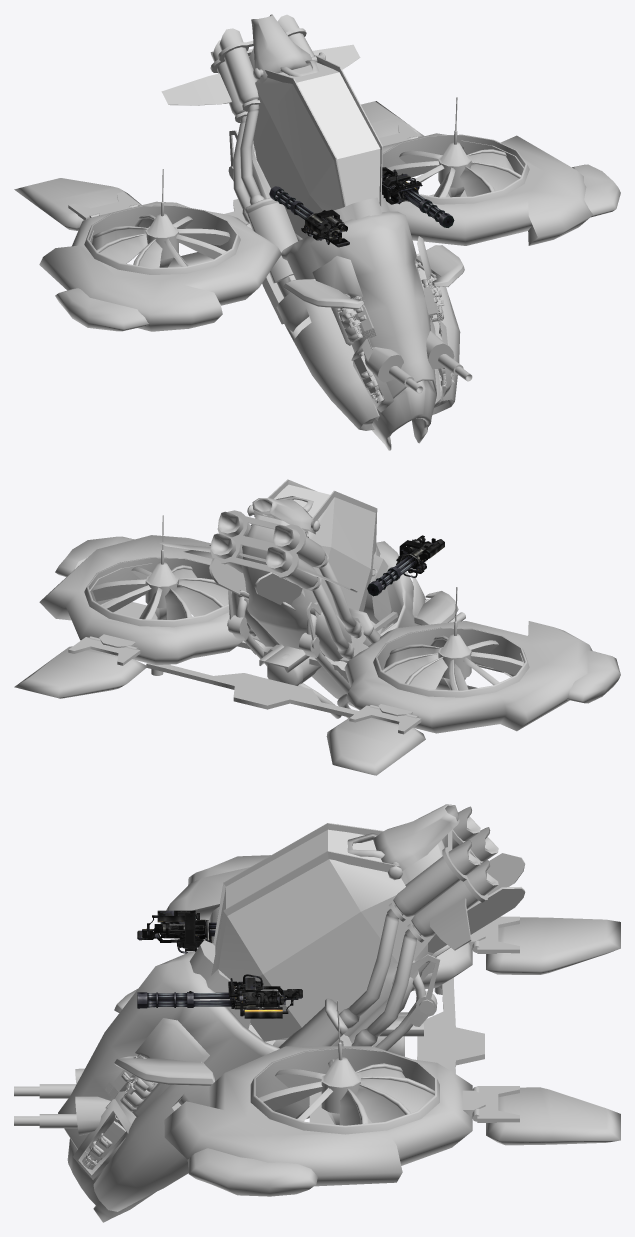
File: Weapon.FBX
The picture shows the model from 3 angles, top to bottom: view 1: azimuth 30°, elevation 25°; view 2: azimuth 150°, elevation 25°; view 3: azimuth 270°, elevation 25°; orthographic projection. The views are drawn at different scales.
Parts seen in each view (by area): view 1: Object002, Object003, Object015, Plane001, 1st_automaticgun_qiangshen_004, 1st_automaticgun_qiangshen_003, Object016, Object004; view 2: Object002, Object003, Object015, 1st_automaticgun_qiangshen_004, Object016; view 3: Object002, Object003, Object015, 1st_automaticgun_qiangshen_003, Object016, Plane001, 1st_automaticgun_qiangshen_004, Object004.
Part boxes in pixels (x1=…): Object002: x1=14, y1=97, x2=620, y2=331; Object003: x1=161, y1=14, x2=460, y2=450; Object015: x1=253, y1=62, x2=380, y2=227; Plane001: x1=293, y1=149, x2=380, y2=238; 1st_automaticgun_qiangshen_004: x1=269, y1=186, x2=349, y2=247; 1st_automaticgun_qiangshen_003: x1=382, y1=167, x2=454, y2=227; Object016: x1=265, y1=55, x2=382, y2=207; Object004: x1=389, y1=354, x2=472, y2=393; Object002: x1=14, y1=515, x2=620, y2=775; Object003: x1=159, y1=496, x2=444, y2=718; Object015: x1=251, y1=484, x2=375, y2=617; 1st_automaticgun_qiangshen_004: x1=367, y1=535, x2=444, y2=596; Object016: x1=254, y1=479, x2=377, y2=554; Object002: x1=114, y1=824, x2=620, y2=1196; Object003: x1=58, y1=804, x2=525, y2=1222; Object015: x1=226, y1=829, x2=435, y2=1027; 1st_automaticgun_qiangshen_003: x1=137, y1=974, x2=302, y2=1018; Object016: x1=211, y1=823, x2=399, y2=975; Plane001: x1=215, y1=888, x2=301, y2=1041; 1st_automaticgun_qiangshen_004: x1=137, y1=910, x2=216, y2=953; Object004: x1=14, y1=1084, x2=77, y2=1128.
Bounding box in the file's own units: 262 × 153 × 208.
